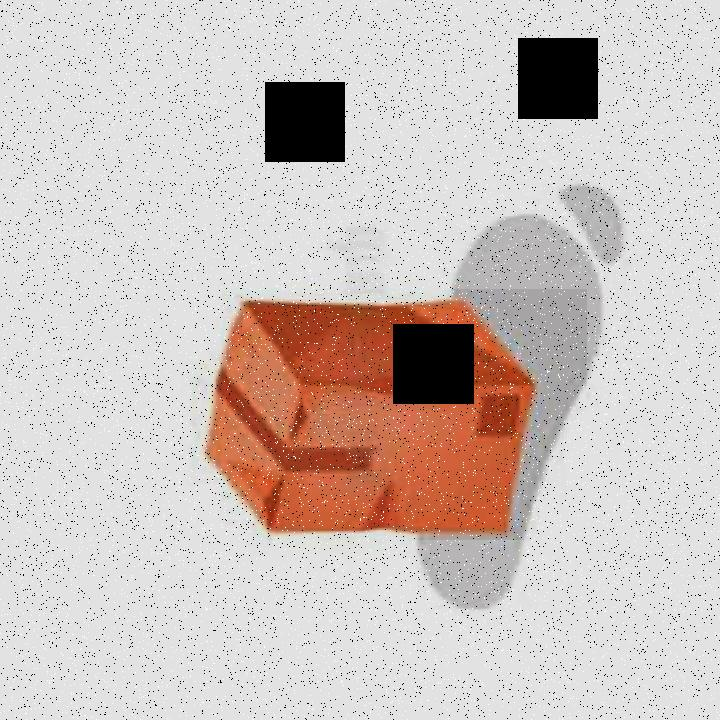box: (190, 289, 587, 540)
